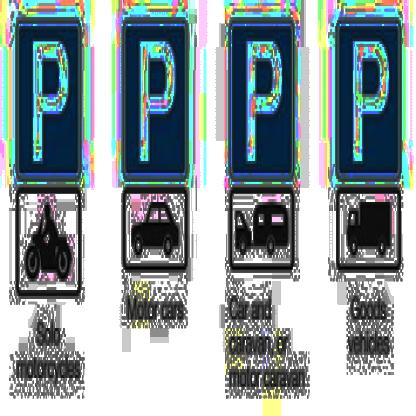Parking: (334, 17, 401, 179), (227, 21, 293, 179), (123, 27, 187, 189), (15, 24, 80, 179)
